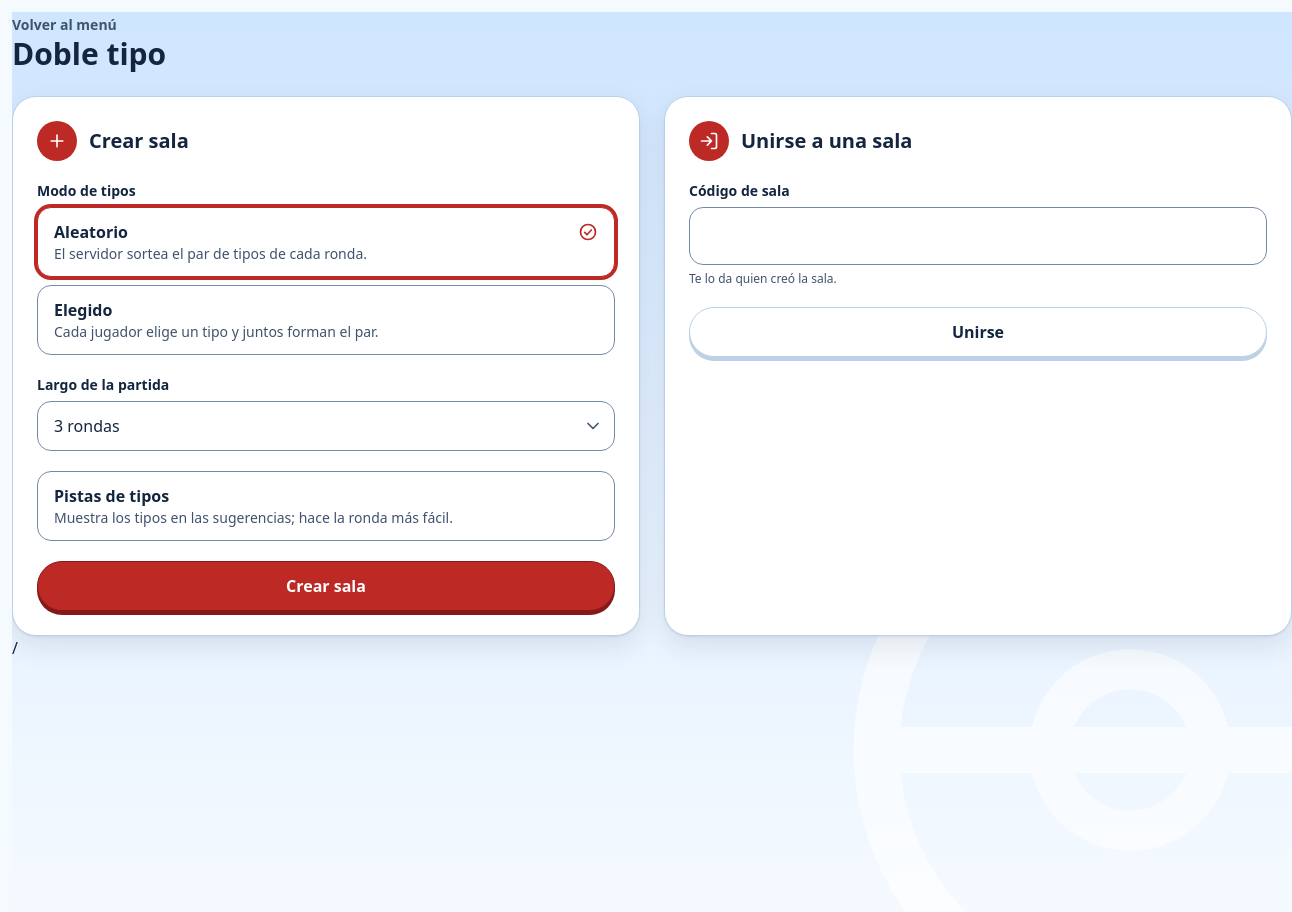
Test case: lobby: crear sala › si el servidor rechaza la creación muestra el motivo y se puede reintentar
The width and height of the screenshot is (1292, 912).
Click the button "Crear sala".
click(326, 586)  # box top-left (37, 561), bottom-right (615, 611)
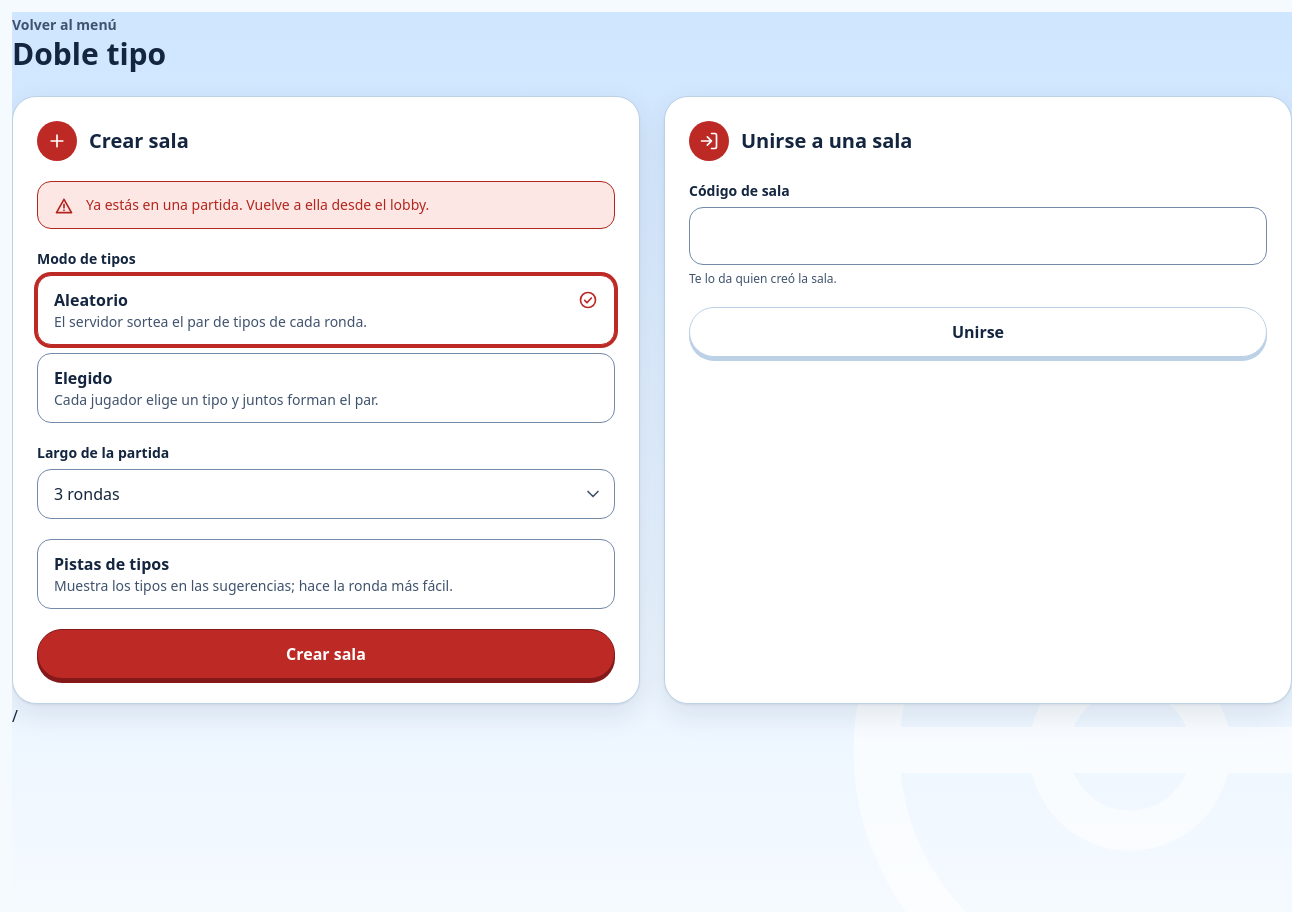
Expected: the button "Crear sala" is enabled, top-left (37, 629), bottom-right (615, 679)
Now the message shows "Ya estás en una partida", box top-left (86, 195), bottom-right (429, 214)
